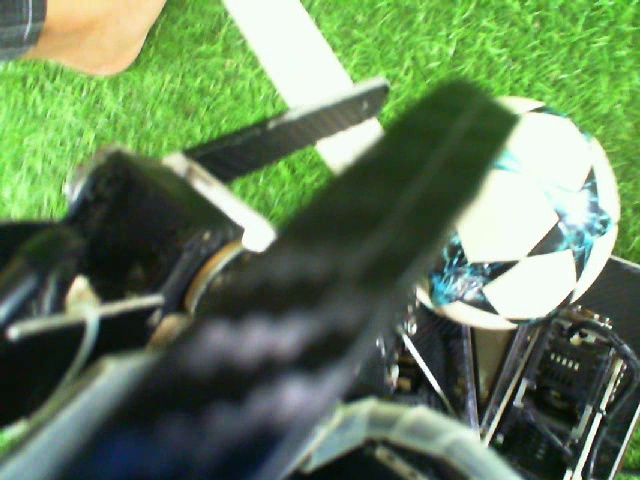ball: (411, 94, 623, 333)
